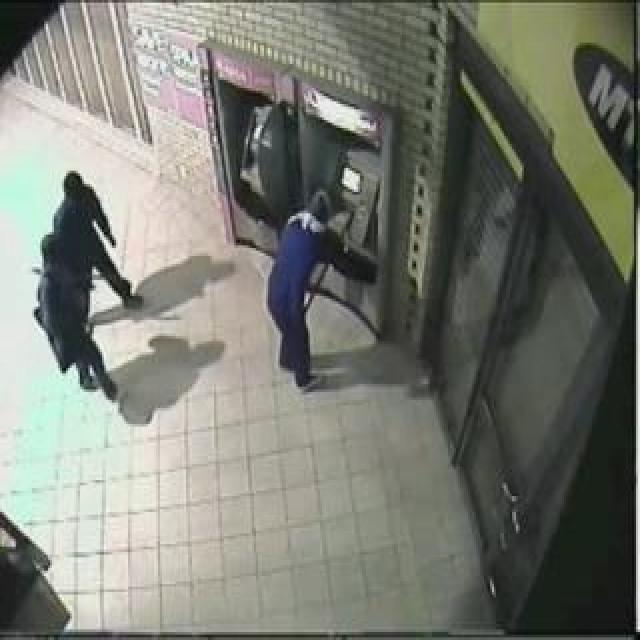thief: (22, 159, 98, 303), (299, 196, 340, 270)
